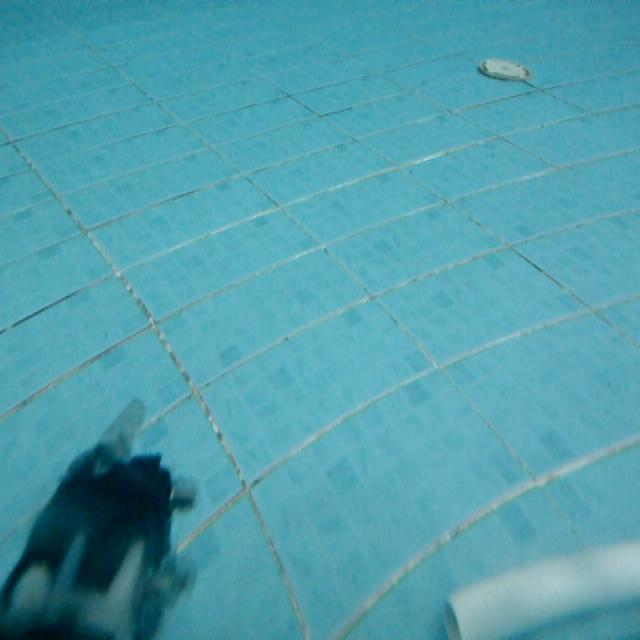Cube: (440, 534, 639, 638)
